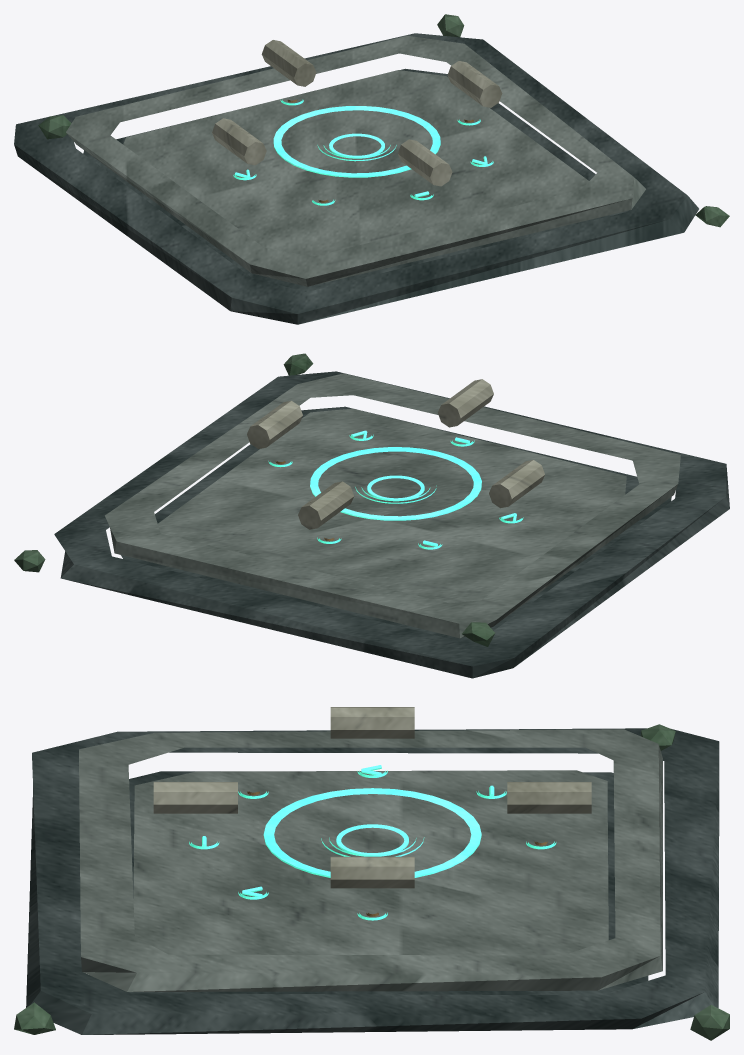
File: 0571_rune_dais_21.glb
3 renders of one model, top to bottom at view 1: azimuth 30°, elevation 25°; view 2: azimuth 150°, elevation 25°; view 3: azimuth 270°, elevation 25°, orthographic. The views are drawn at different scales.
Parts seen in each view (by area): view 1: stone, stone_dark, stone_light, glow, moss; view 2: stone, stone_dark, stone_light, glow, moss; view 3: stone, stone_dark, stone_light, glow, moss.
Boxes of the visible parts, x1,y1,x2,y2 form: stone: (66,35,645,286); stone_dark: (14,33,698,324); stone_light: (212,40,502,186); glow: (233,99,493,205); moss: (38,14,729,227); stone: (105,373,680,638); stone_dark: (54,371,729,678); stone_light: (247,379,544,529); glow: (268,430,523,549); moss: (14,353,495,646); stone: (79,729,662,991); stone_dark: (26,728,719,1034); stone_light: (153,707,591,888); glow: (189,765,556,920); moss: (14,724,729,1040).
Size of the model in its own units: 4.16 by 0.7213 by 4.25.
Materials: 6 (6 with a texture image).
